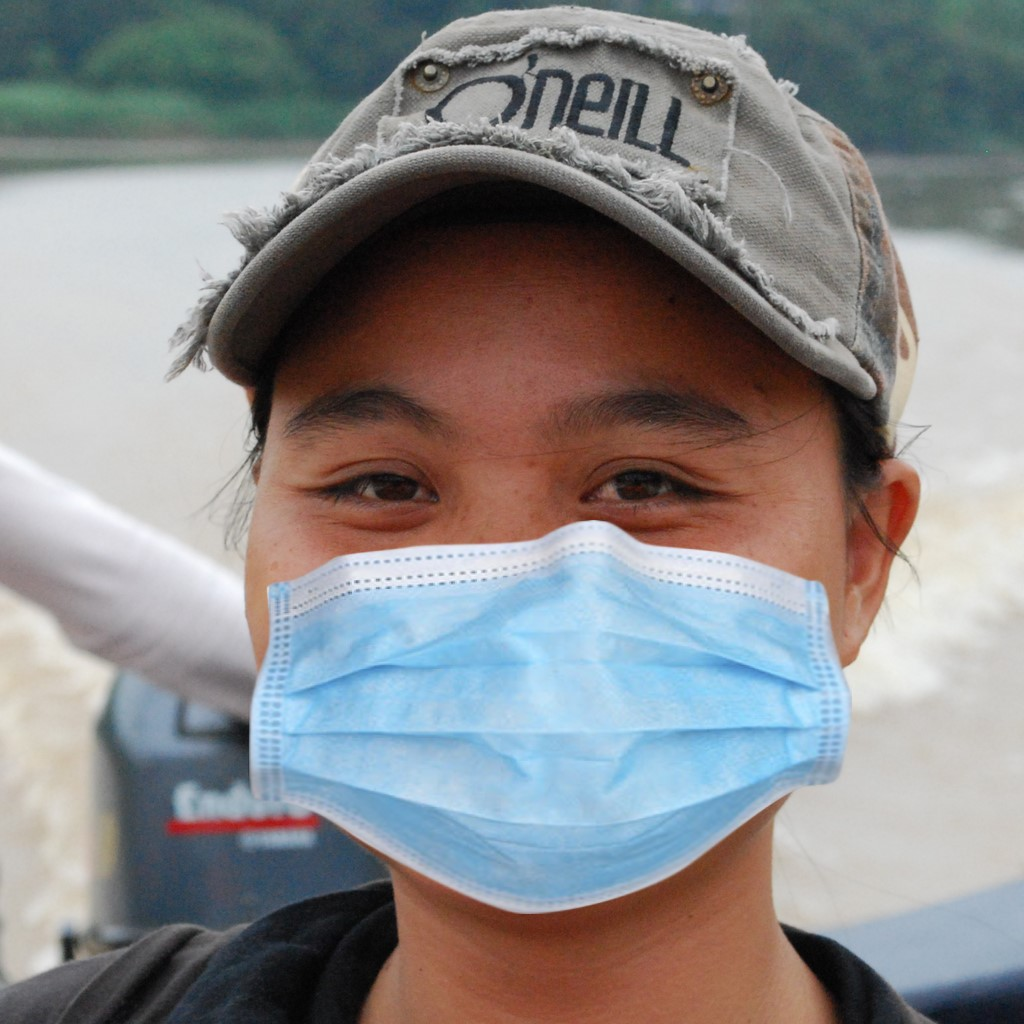con_mascara: (232, 190, 838, 900)
